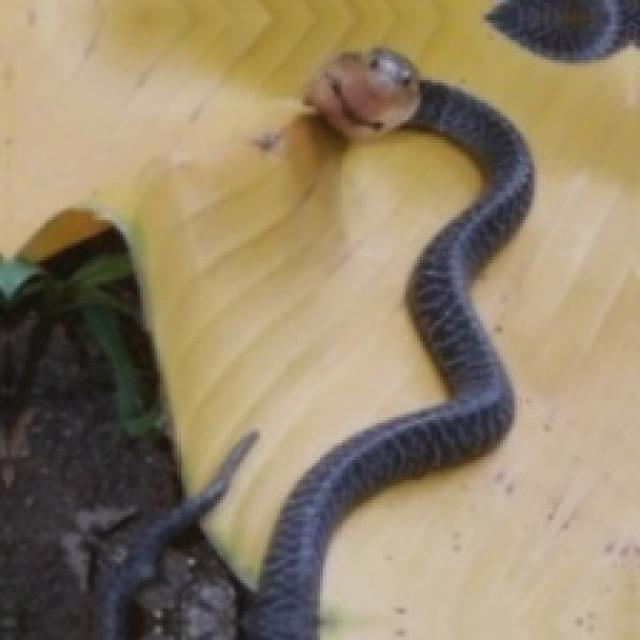philippine cobra: (249, 49, 531, 637), (251, 49, 531, 637), (103, 431, 254, 637)
